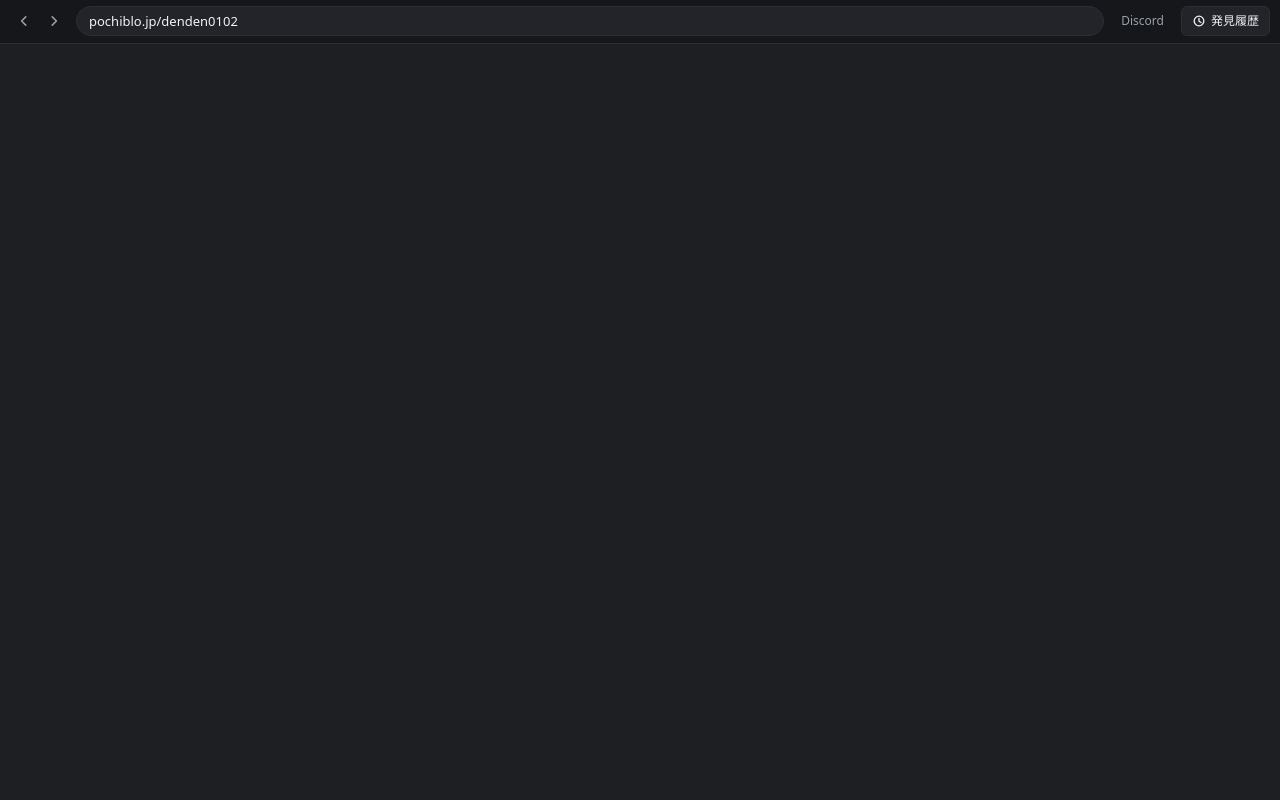
Scenario: BrowserChrome › 探索で訪れた個人・手がかりページを静かに発見履歴へ記録し、前ページの古いタイトルを持ち越さず、Esc と外部クリックで閉じる
Step 1. Click the button "発見履歴" → (1226, 21), box [1181,6,1270,36]
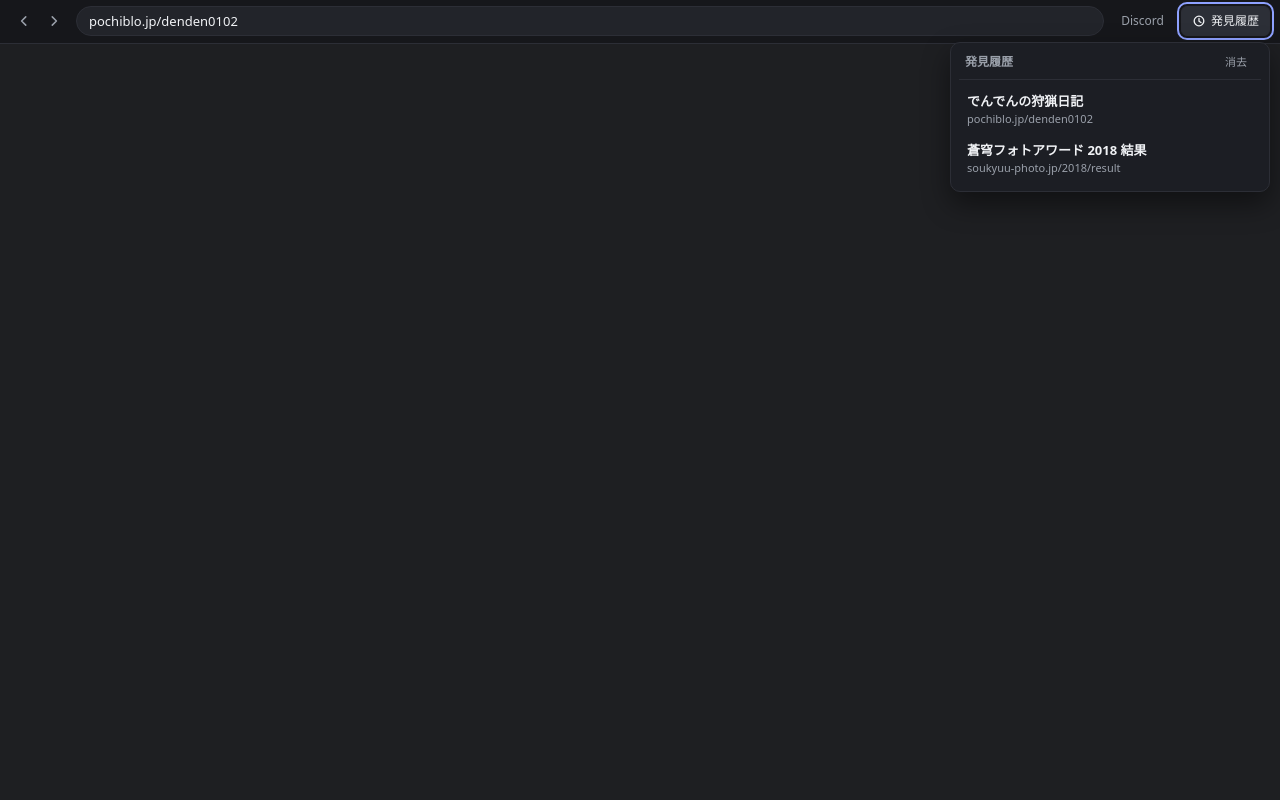
Step 2. Press Escape
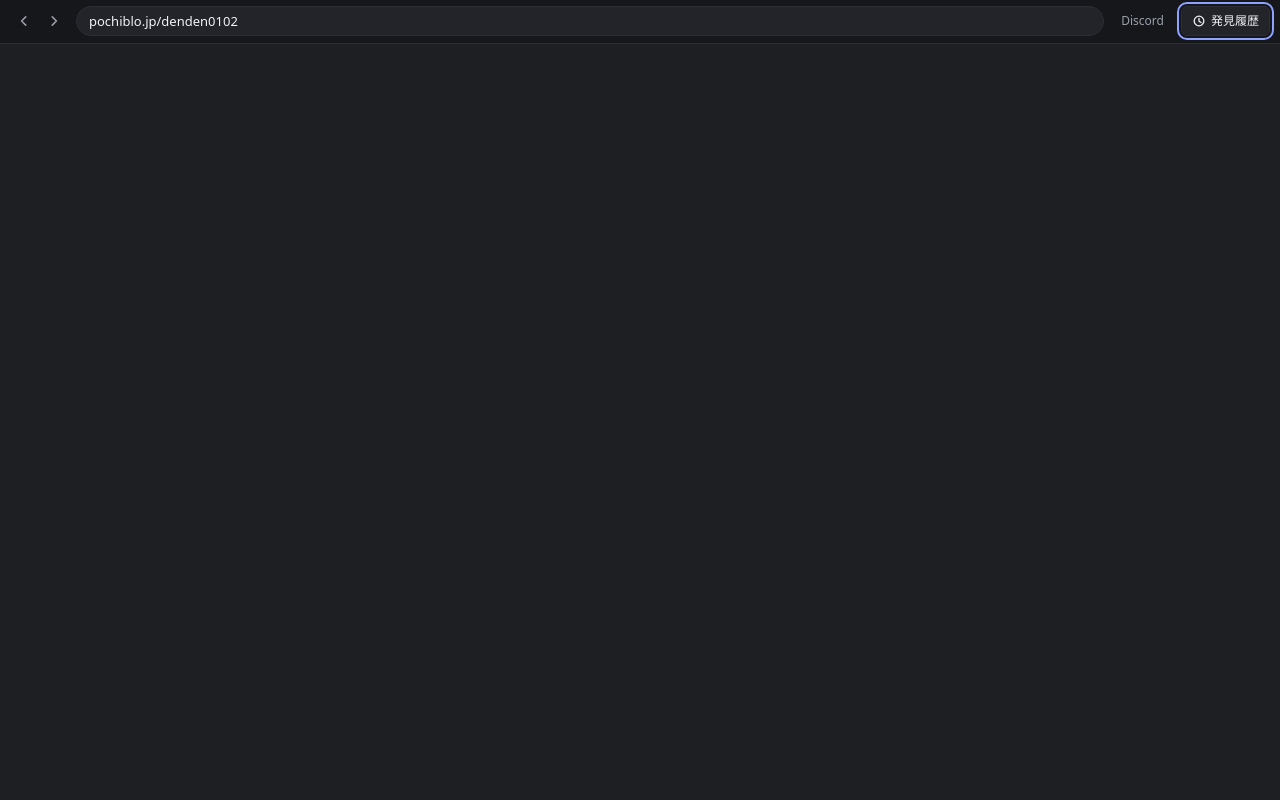
expect the element "発見したページの履歴" is gone: met
Step 3. Click the button "発見履歴" → (1226, 21), box [1181,6,1270,36]
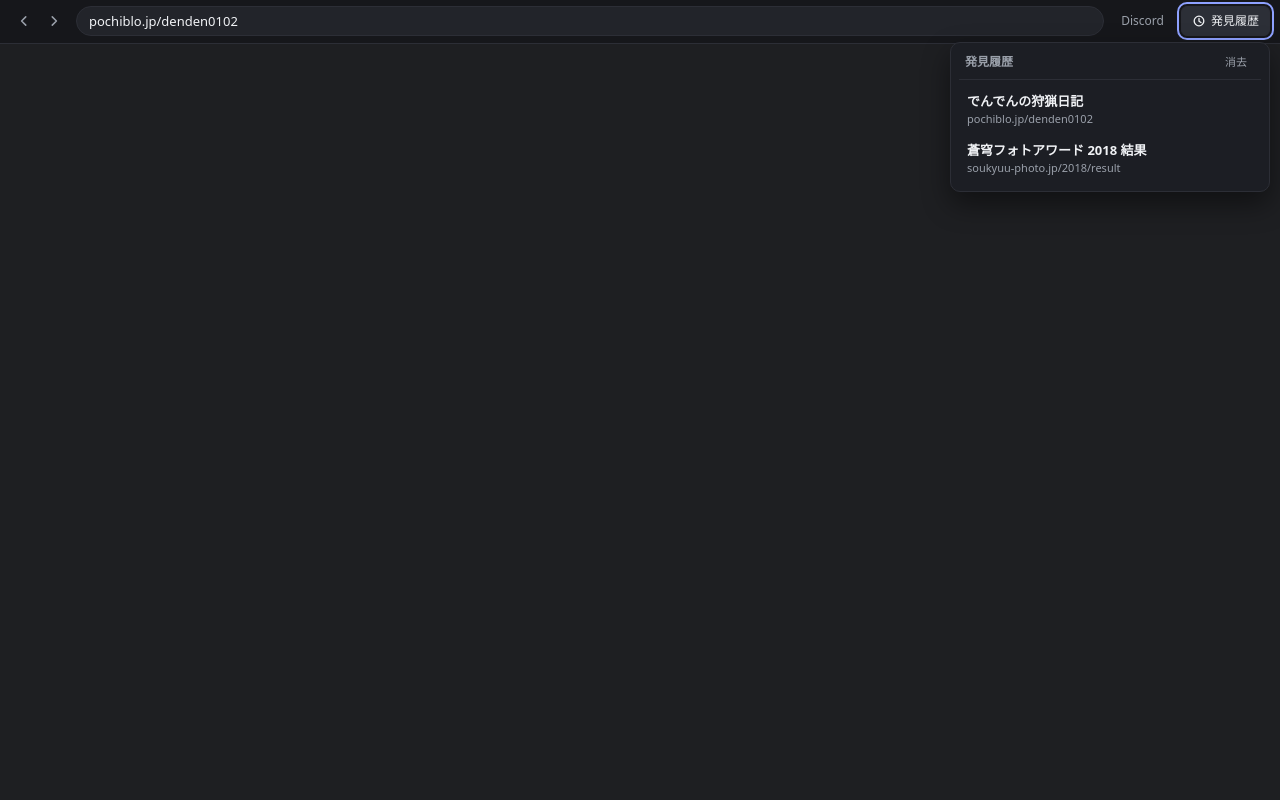
expect the element named "発見したページの履歴" is shown: met, box [950,42,1270,192]
Step 4. Press the mouse on the element that starts with "Discord" → (640, 400), box [0,0,1279,799]
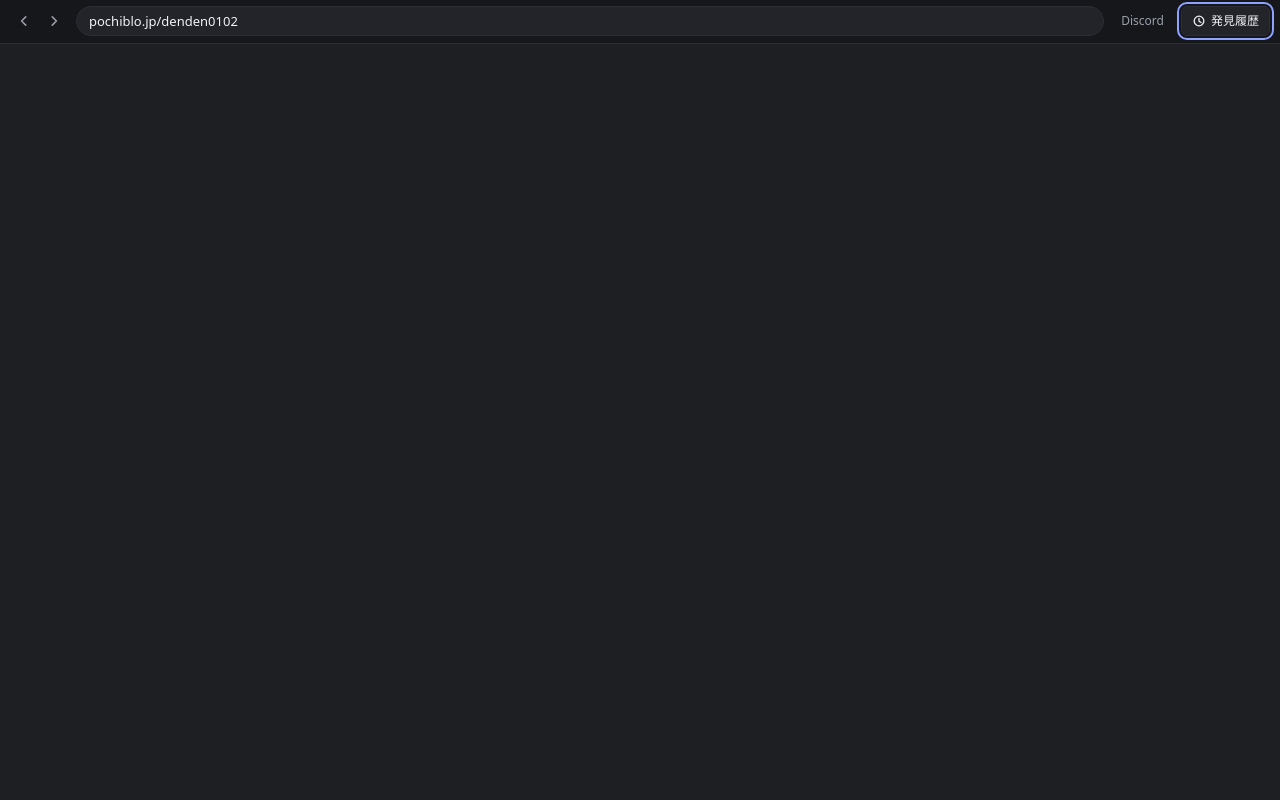
expect the element "発見したページの履歴" is gone: met
